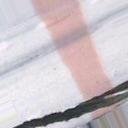crackTip: (1, 76, 128, 126)
